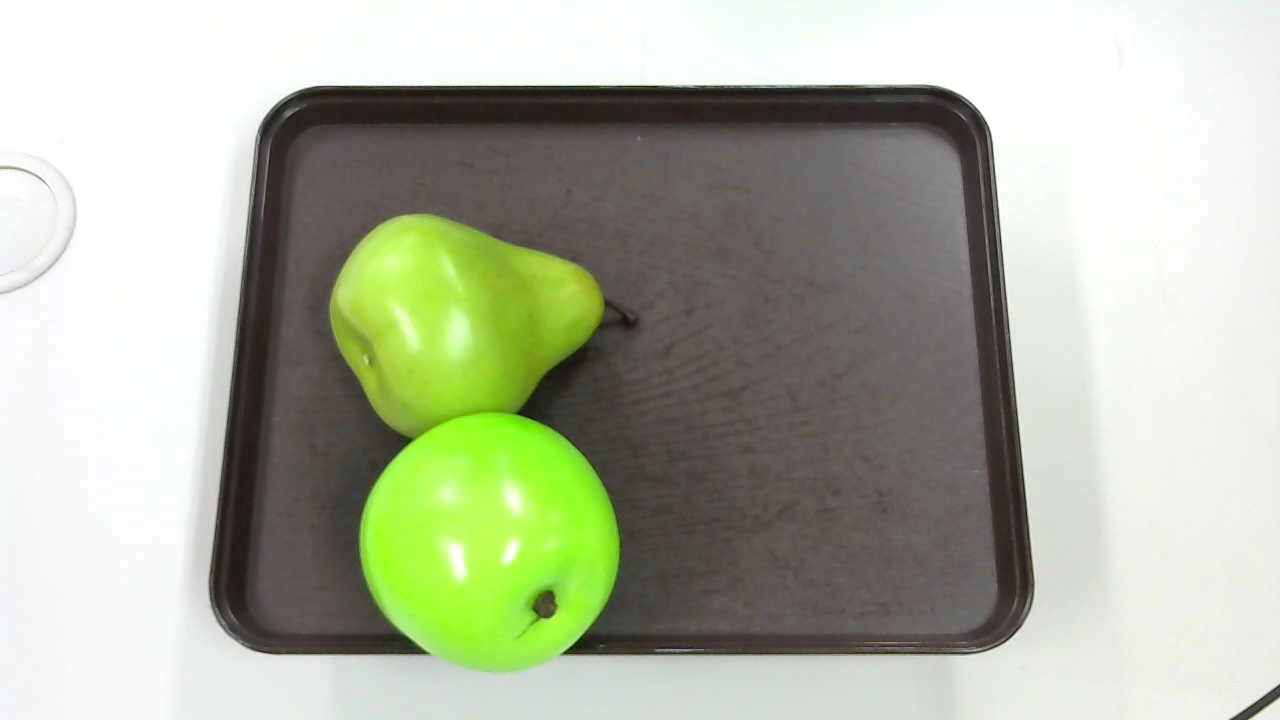green apple: (356, 409, 624, 667)
green pear: (330, 214, 637, 434)
